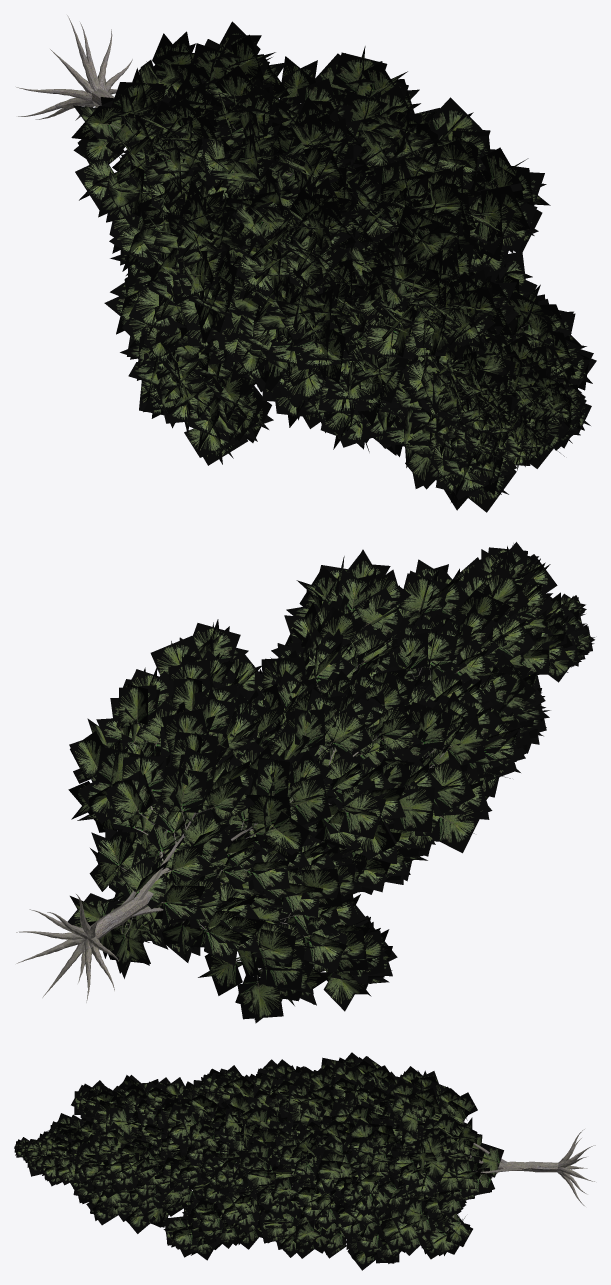
3 views of the same model, one above another, from view 1: azimuth 30°, elevation 25°; view 2: azimuth 150°, elevation 25°; view 3: azimuth 270°, elevation 25° (orthographic). The views are drawn at different scales.
Parts seen in each view (by area): view 1: EA12y; view 2: EA12y; view 3: EA12y.
Part boxes in pixels (box(x1,y1,x2,y2)): EA12y: box(16, 15, 596, 512); EA12y: box(16, 542, 594, 1023); EA12y: box(14, 1052, 595, 1270).
Size of the model in its own units: 25.76 by 23.24 by 61.
2 materials, 2 textured.
